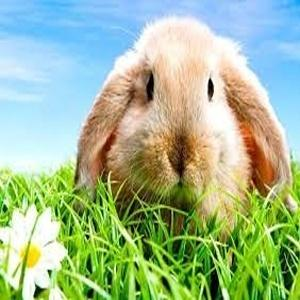rabbit: (77, 17, 291, 236)
